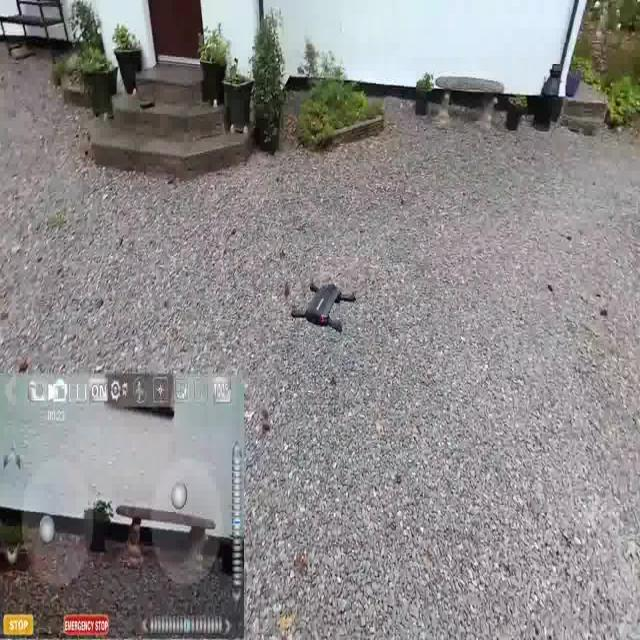drone: (288, 273, 362, 340)
